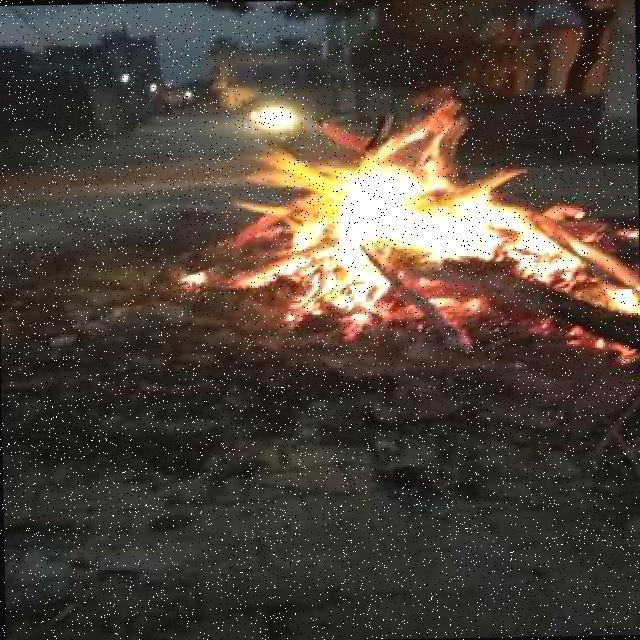Fire: (212, 86, 554, 342)
